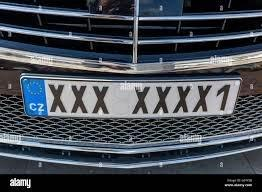Liscence Plate: (27, 77, 238, 116)
